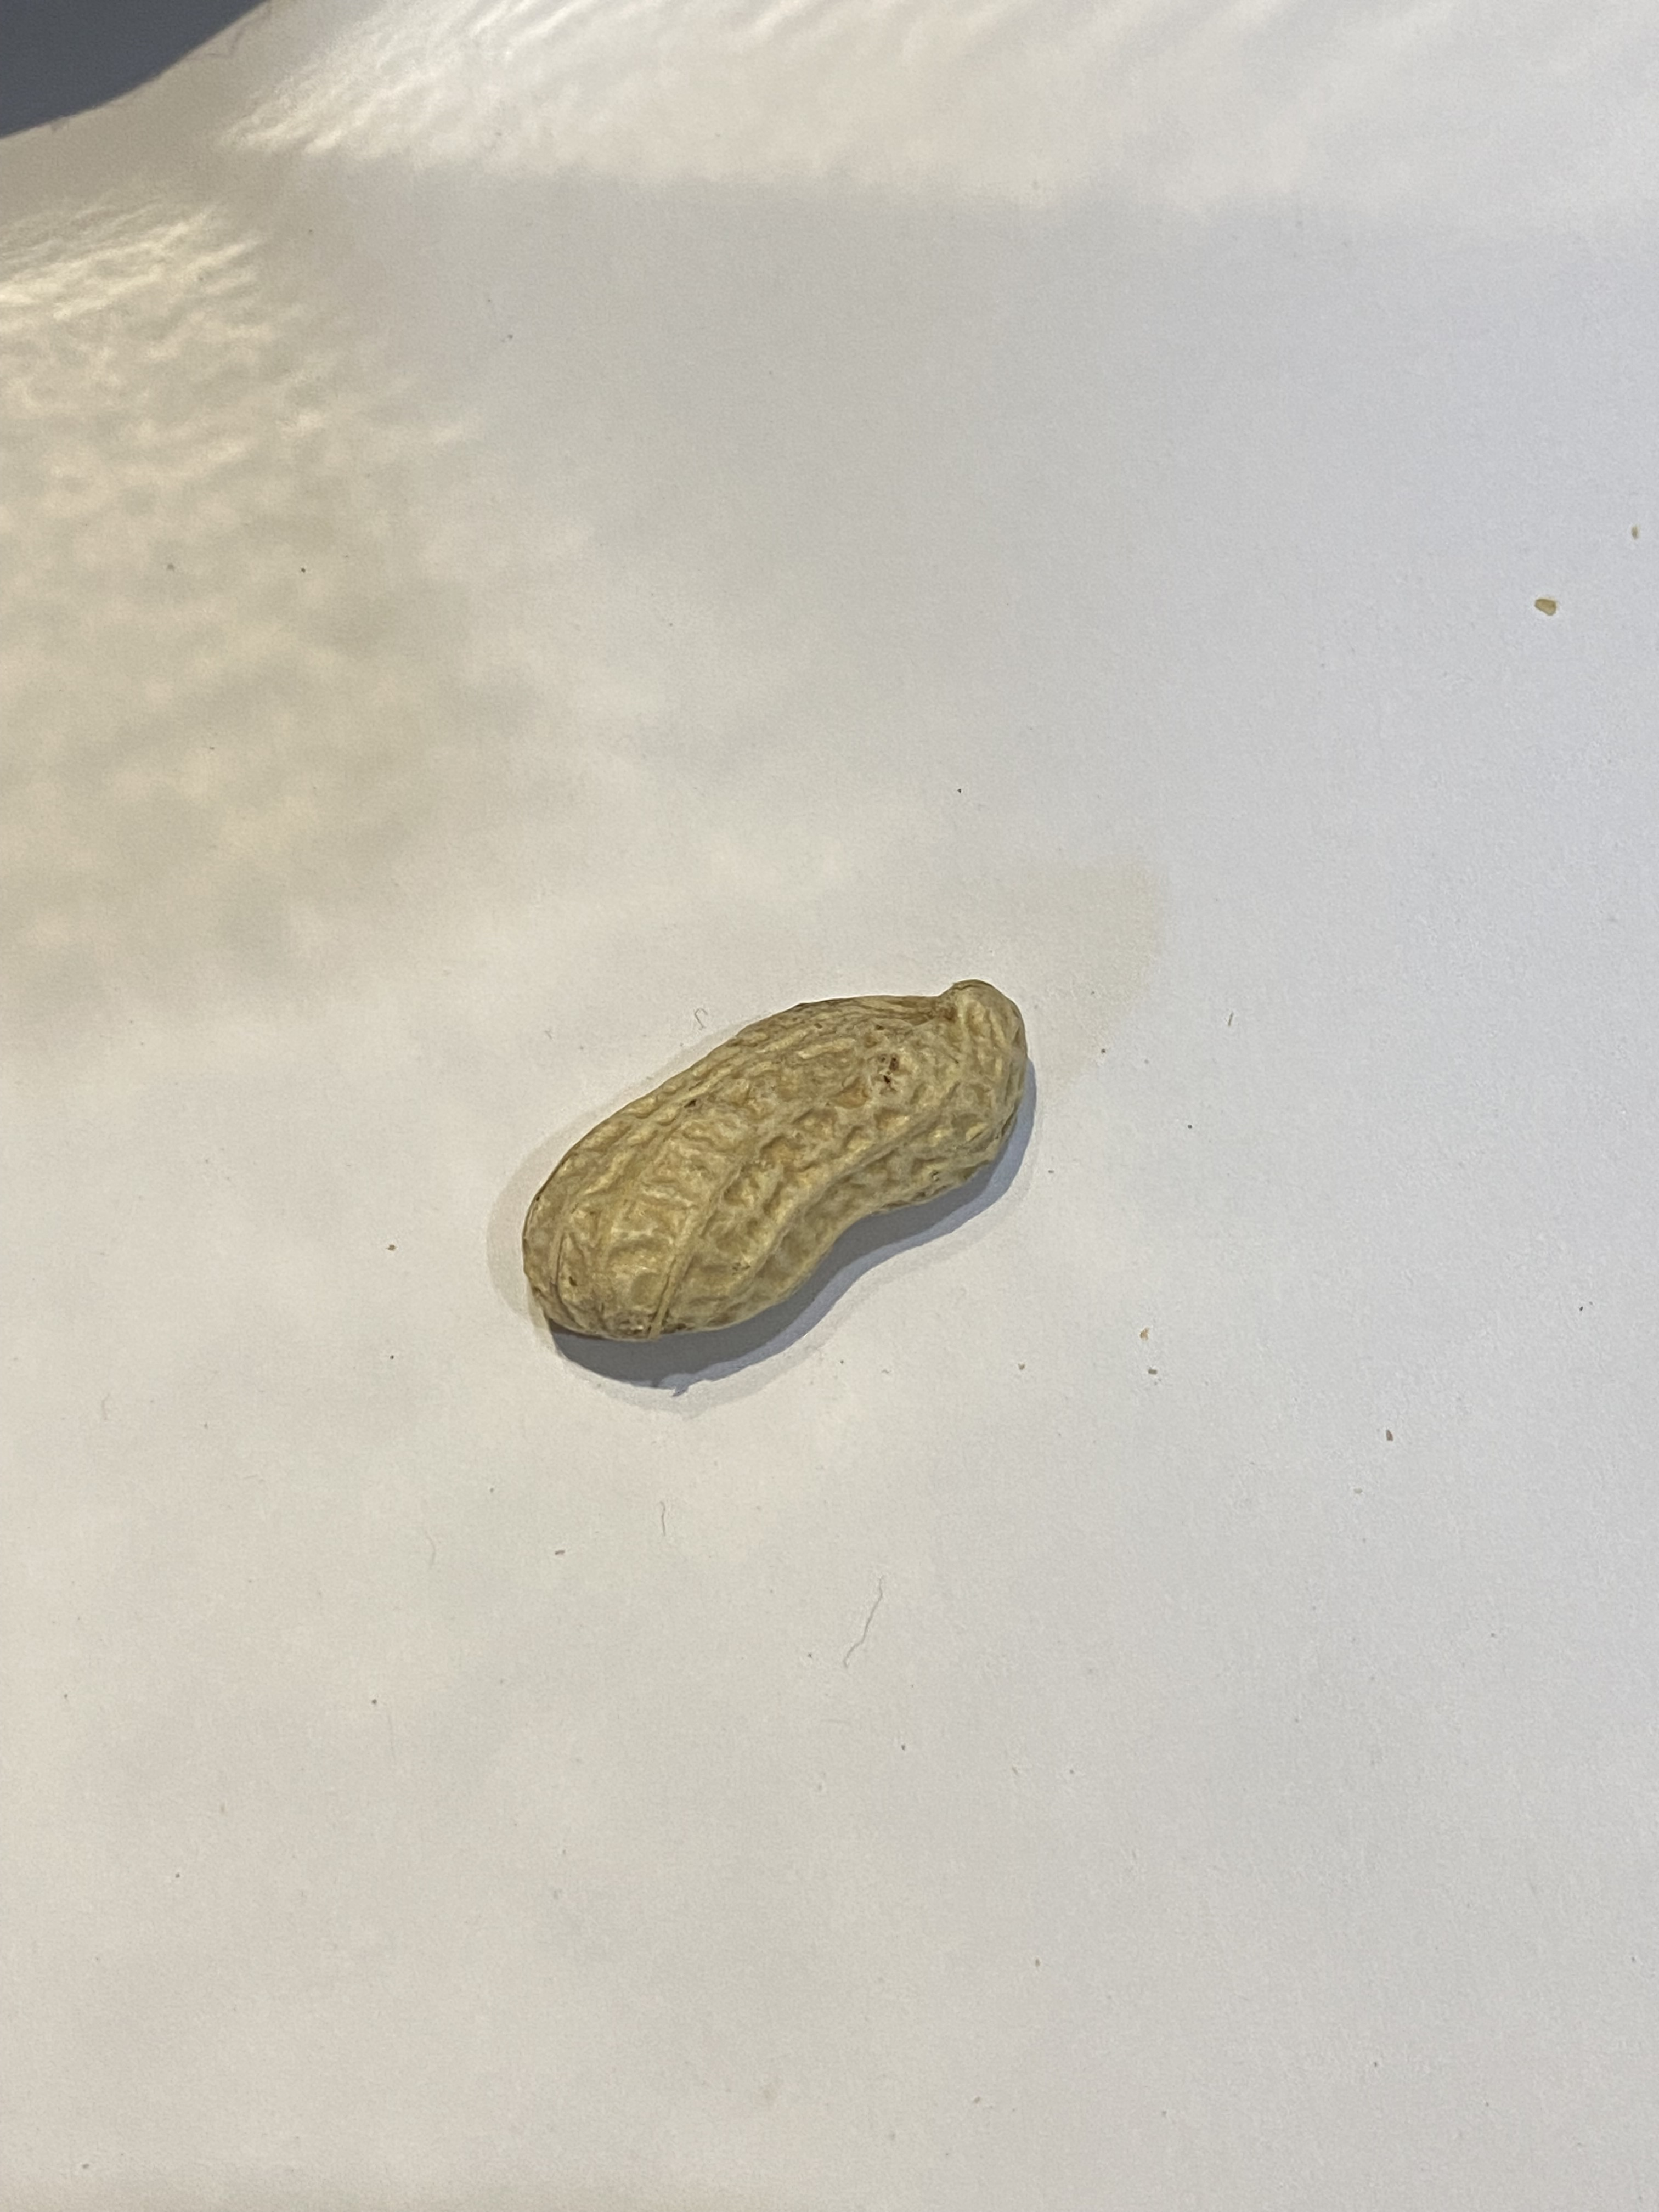kacang2: (495, 958, 1061, 1364)
